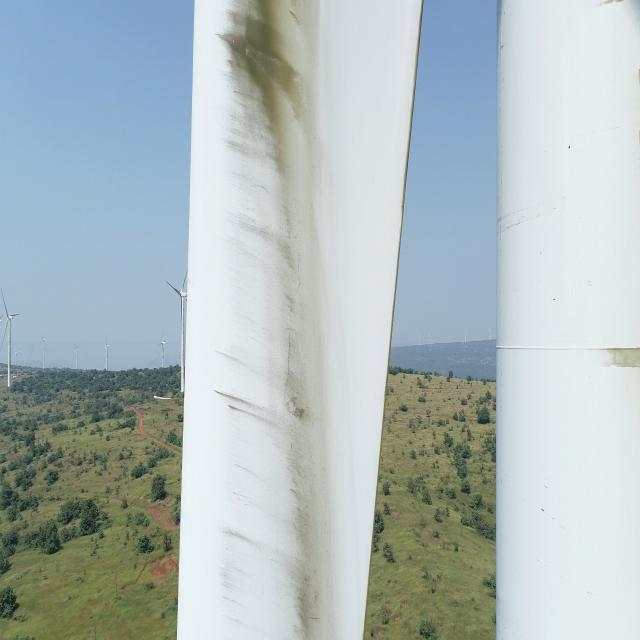Dirt: (196, 0, 365, 640)
